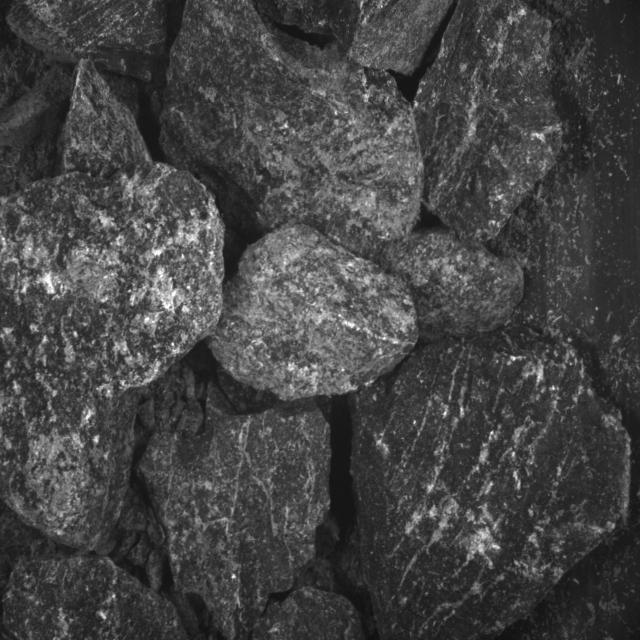Stones: (1, 164, 225, 550), (352, 332, 631, 639), (161, 1, 425, 259), (140, 409, 332, 639), (210, 226, 419, 401), (415, 1, 562, 243), (381, 230, 525, 343), (5, 556, 187, 640), (257, 1, 454, 77), (9, 1, 167, 82), (64, 60, 152, 178), (350, 1, 454, 77), (254, 588, 365, 640)
